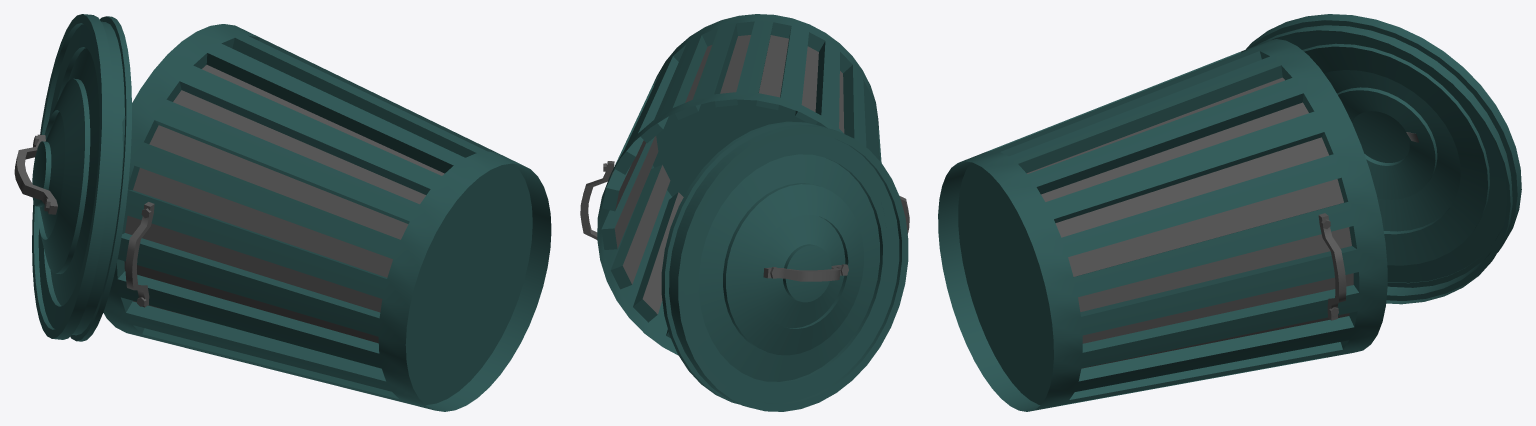
Rendered from Trash Can.fbx.
The picture shows the model from 3 angles, left to right: view 1: azimuth 30°, elevation 25°; view 2: azimuth 150°, elevation 25°; view 3: azimuth 270°, elevation 25°; orthographic projection. The views are drawn at different scales.
Parts seen in each view (by area): view 1: polySurface5; view 2: polySurface5; view 3: polySurface5.
Boxes of the visible parts, x1,y1,x2,y2 form: polySurface5: (14, 14, 551, 411); polySurface5: (580, 14, 909, 411); polySurface5: (938, 14, 1521, 411).
Bounding box in the file's own units: 6.14 × 4.55 × 8.18.
